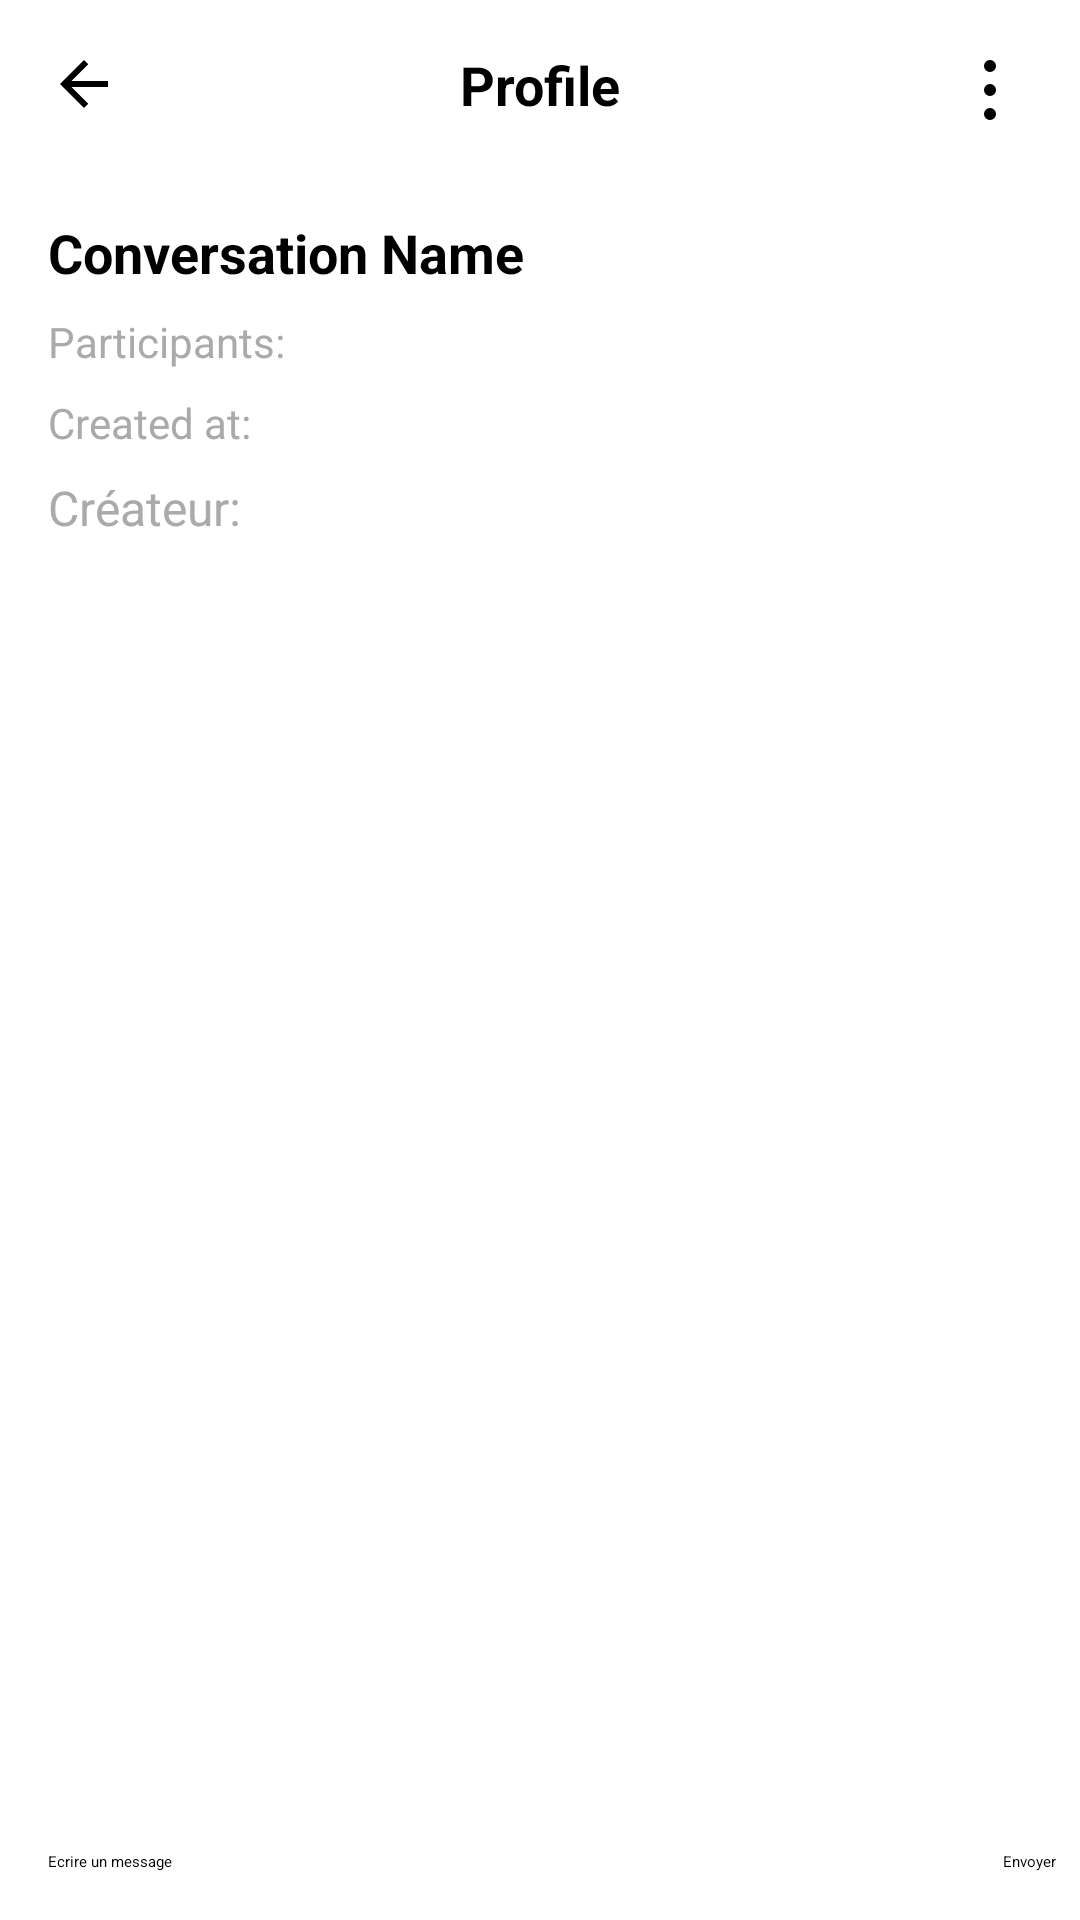

Named icons in this screenshot (1080 × 1920) and their centers, point (x, y):
arrow back: point (84, 84)
points: point (990, 90)
